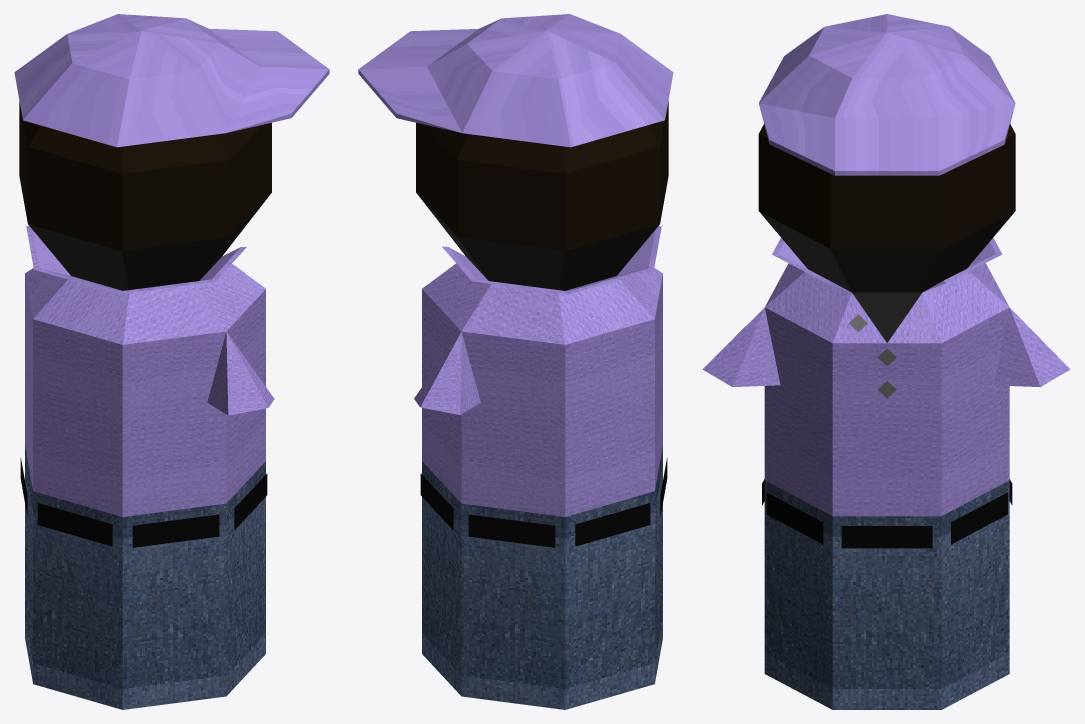
The model's file is PurpleCharacter.obj.
3 renders of one model, left to right at view 1: azimuth 30°, elevation 25°; view 2: azimuth 150°, elevation 25°; view 3: azimuth 270°, elevation 25°, orthographic.
Parts seen in each view (by area): view 1: Sphere; view 2: Sphere; view 3: Sphere.
Boxes of the visible parts, x1,y1,x2,y2 form: Sphere: (14, 14, 329, 709); Sphere: (358, 14, 673, 709); Sphere: (702, 14, 1070, 709).
Size of the model in its own units: 2.35 by 5.02 by 2.66.
7 materials, 3 textured.
